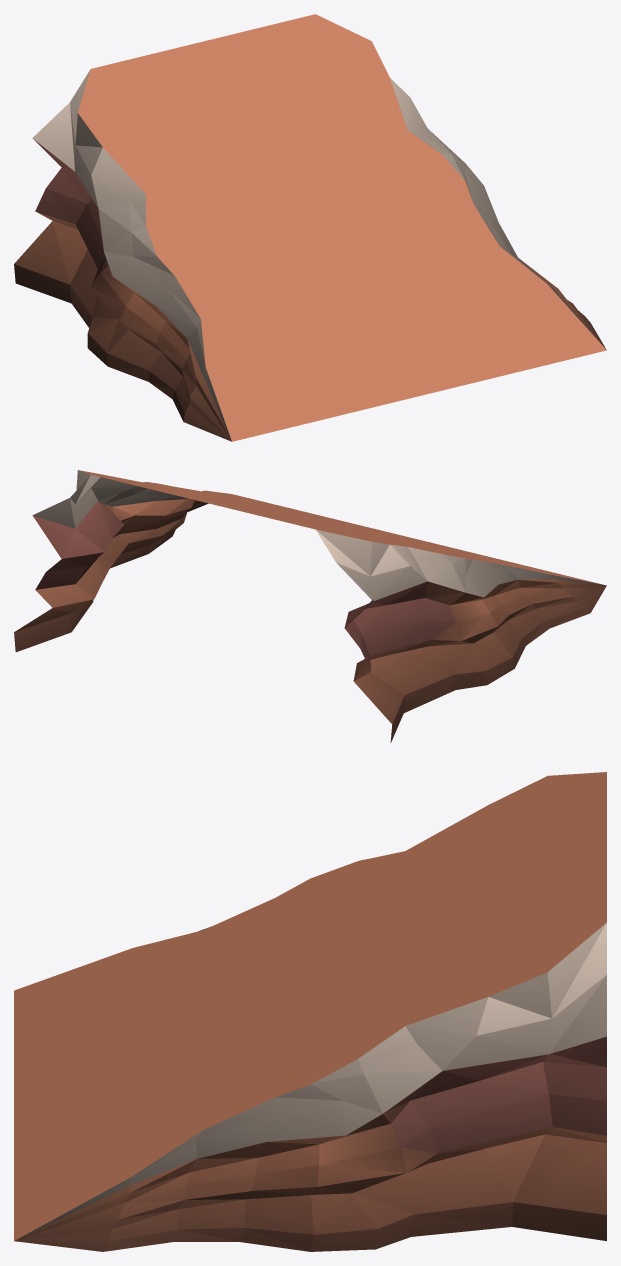
Rendered from lowramp.fbx.
The picture shows the model from 3 angles, top to bottom: view 1: azimuth 30°, elevation 25°; view 2: azimuth 150°, elevation 25°; view 3: azimuth 270°, elevation 25°; orthographic projection. The views are drawn at different scales.
Visible parts, largest first — view 1: lowramp; view 2: lowramp; view 3: lowramp.
Boxes of the visible parts, x1,y1,x2,y2 form: lowramp: (14,14,606,441); lowramp: (14,470,606,742); lowramp: (14,772,606,1251).
Size of the model in its own units: 109 by 50 by 100.
